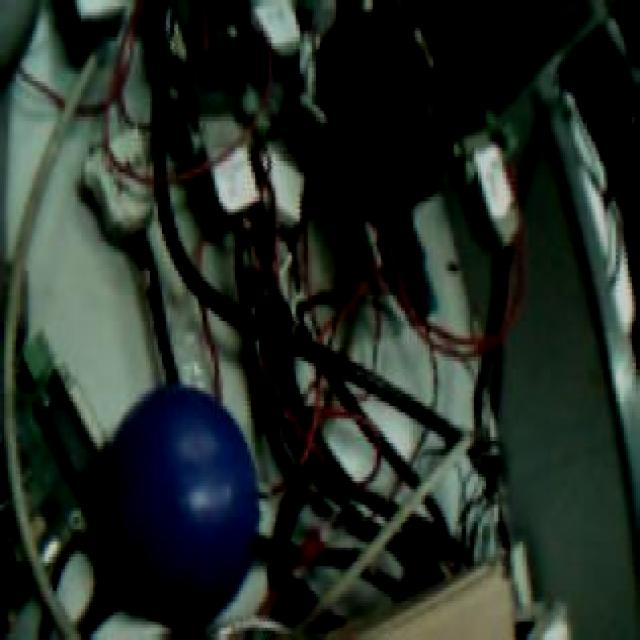BallPurple: (103, 388, 260, 626)
